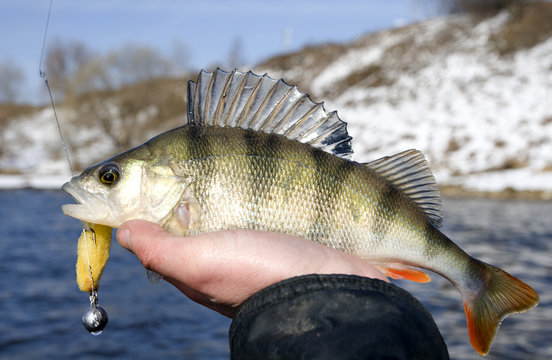Striped Bass: (28, 63, 545, 330)
